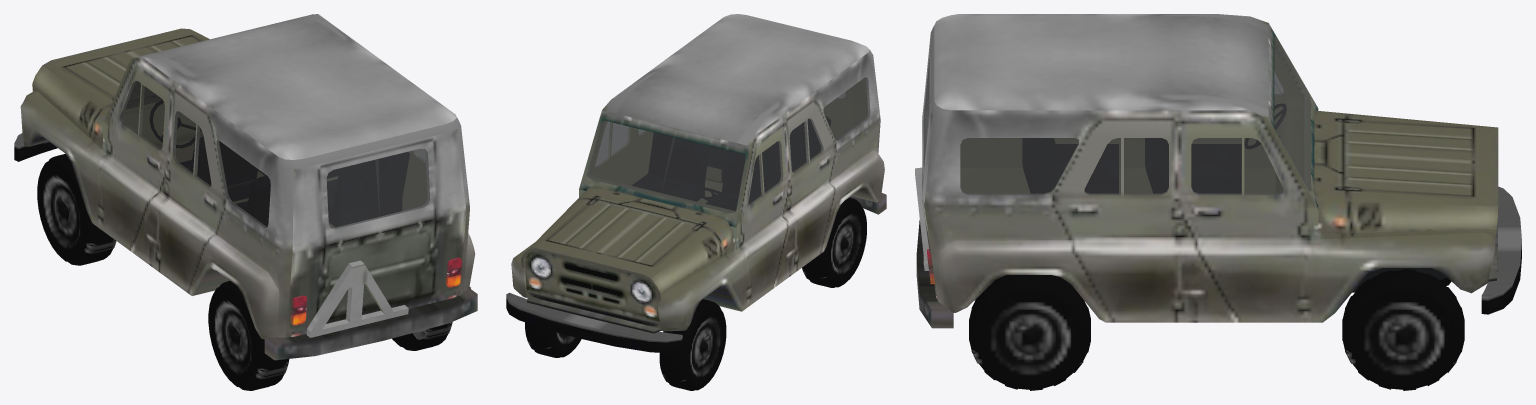
File: uaz_469.aa45d90c7c.glb
The picture shows the model from 3 angles, left to right: view 1: azimuth 30°, elevation 25°; view 2: azimuth 150°, elevation 25°; view 3: azimuth 270°, elevation 25°; orthographic projection. The views are drawn at different scales.
Parts seen in each view (by area): view 1: body, glass, wheel_fl, wheel_rl, wheel_rr; view 2: body, glass, wheel_fl, wheel_rl, wheel_fr, helm; view 3: body, glass, wheel_fr, wheel_rr.
Boxes of the visible parts, x1,y1,x2,y2 form: body: (14,14,477,360); glass: (120,81,429,228); wheel_fl: (37,154,116,265); wheel_rl: (208,281,289,390); wheel_rr: (392,322,452,350); body: (506,14,886,352); glass: (586,77,870,212); wheel_fl: (659,299,726,390); wheel_rl: (802,197,866,287); wheel_fr: (525,322,581,357); helm: (696,187,736,207); body: (915,14,1521,328); glass: (923,36,1310,195); wheel_fr: (1342,269,1464,390); wheel_rr: (969,275,1090,390).
Bounding box in the file's own units: 1.83 × 2.15 × 4.13.
Materials: 2 (1 with a texture image).
